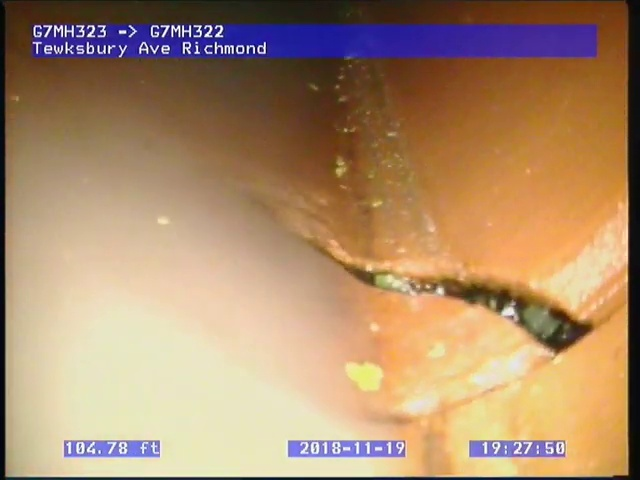crack: (303, 231, 626, 359)
